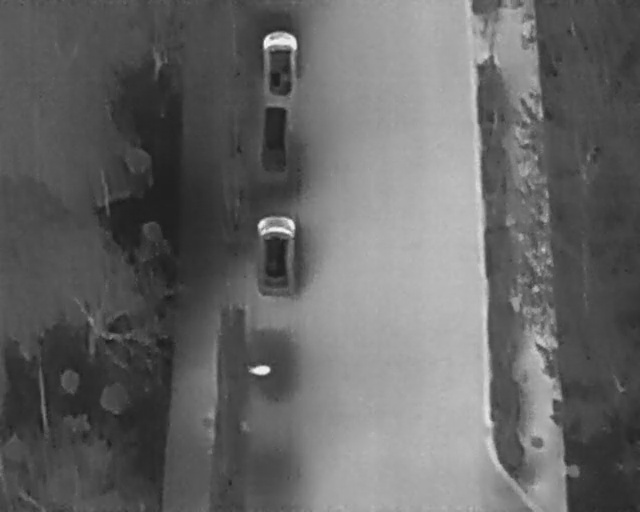Car: (254, 209, 300, 296), (258, 28, 299, 103), (255, 102, 293, 179)
